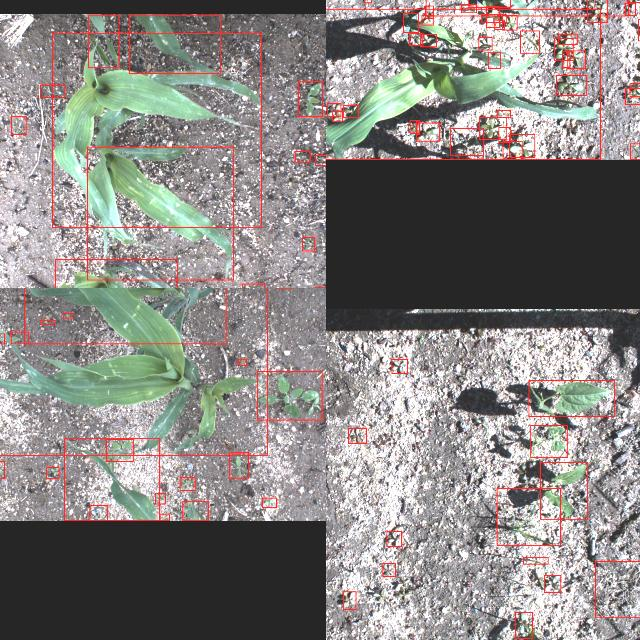crop: (0, 288, 266, 455), (326, 8, 600, 159), (52, 32, 260, 228), (87, 146, 233, 280), (23, 288, 225, 344), (64, 439, 158, 521), (128, 15, 220, 74), (55, 259, 176, 288), (528, 380, 614, 416), (88, 14, 118, 68)
weed: (496, 488, 560, 546), (256, 372, 322, 421), (539, 462, 587, 520), (595, 561, 640, 617), (530, 425, 566, 457), (450, 128, 482, 156), (298, 82, 322, 116), (508, 134, 534, 158), (478, 118, 506, 140), (556, 75, 586, 95), (106, 439, 132, 461), (228, 452, 248, 478), (182, 502, 208, 520), (514, 613, 532, 639), (587, 0, 607, 22), (554, 38, 572, 60), (416, 123, 438, 141), (520, 31, 538, 53), (502, 142, 522, 160), (566, 51, 584, 69), (402, 13, 418, 32), (40, 85, 64, 97), (10, 116, 26, 134), (468, 0, 509, 7), (486, 6, 498, 28), (624, 89, 640, 105), (544, 576, 560, 592), (89, 506, 107, 520), (348, 428, 366, 442), (420, 34, 436, 48), (391, 359, 407, 373), (10, 332, 28, 344), (343, 592, 355, 610), (502, 15, 516, 30), (480, 14, 506, 22), (342, 105, 358, 118), (478, 36, 492, 50), (386, 532, 400, 546), (294, 150, 310, 162), (488, 53, 500, 69), (558, 34, 576, 44), (629, 144, 640, 160), (302, 237, 314, 251), (498, 128, 510, 142), (326, 104, 340, 116), (180, 478, 194, 490), (522, 558, 548, 564), (410, 33, 422, 45), (382, 564, 394, 576), (629, 83, 640, 96), (625, 2, 635, 16), (409, 120, 419, 134), (262, 498, 276, 508), (561, 52, 569, 68), (460, 4, 476, 12), (314, 155, 326, 165), (421, 15, 433, 25), (46, 468, 58, 478), (423, 5, 432, 18), (496, 110, 510, 118), (494, 20, 504, 30), (332, 112, 342, 122), (155, 494, 165, 504), (62, 312, 72, 318), (159, 515, 169, 521), (40, 320, 54, 324), (237, 359, 246, 365), (416, 122, 418, 134), (363, 0, 370, 2)
